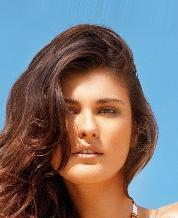face: (59, 97, 118, 163)
